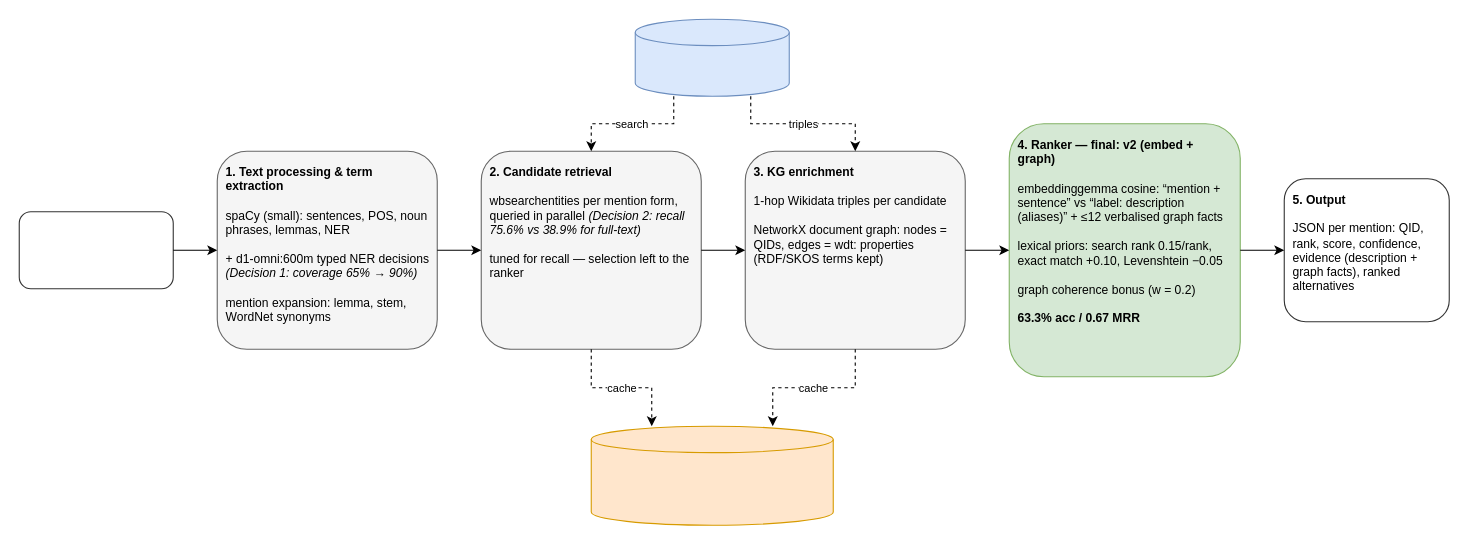
Some shapes in this 1469 by 545 pixel diagram are drawn without their labels. Each missing label, with the centre of its shape:
Input unstructured text (multi-sentence paragraphs): pixel 95 250
SQLite candidate store QID, label, description, aliases, 1-hop triples: pixel 711 475
Wikidata API: pixel 711 57
